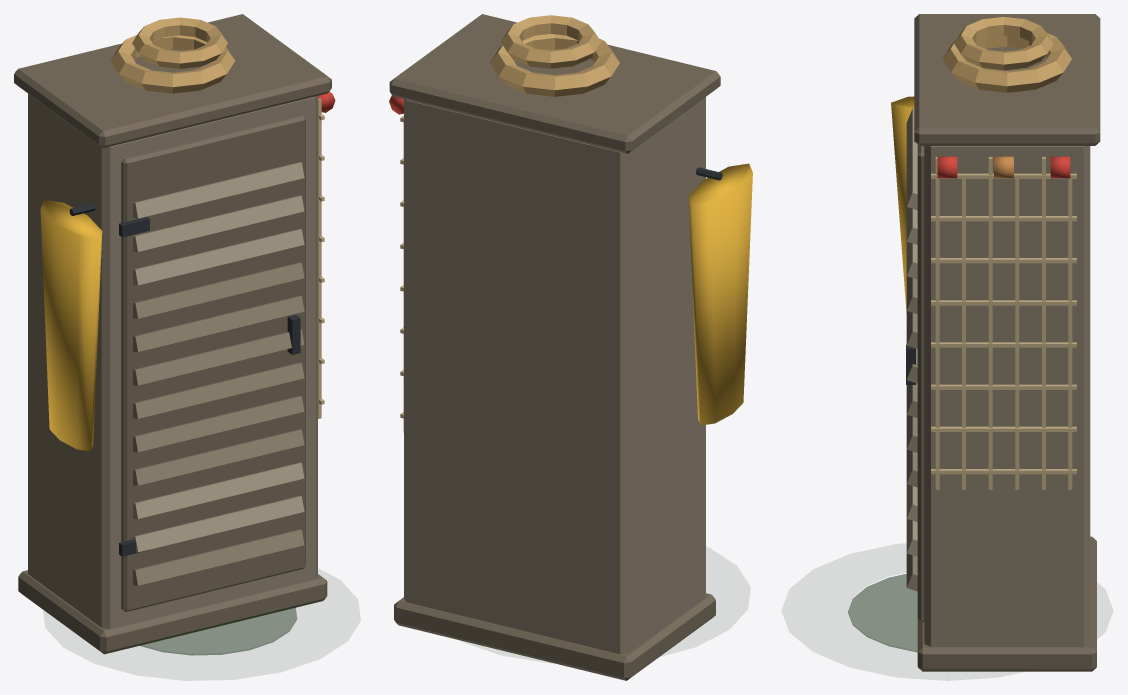
The model's file is net_locker.glb.
The picture shows the model from 3 angles, left to right: view 1: azimuth 30°, elevation 25°; view 2: azimuth 150°, elevation 25°; view 3: azimuth 270°, elevation 25°; orthographic projection. The views are drawn at different scales.
Visible parts, largest first — view 1: net_locker; view 2: net_locker; view 3: net_locker.
Boxes of the visible parts, x1,y1,x2,y2 form: net_locker: [14, 14, 335, 655]; net_locker: [389, 14, 752, 680]; net_locker: [847, 14, 1100, 680].
Size of the model in its own units: 1.03 by 1.94 by 1.
